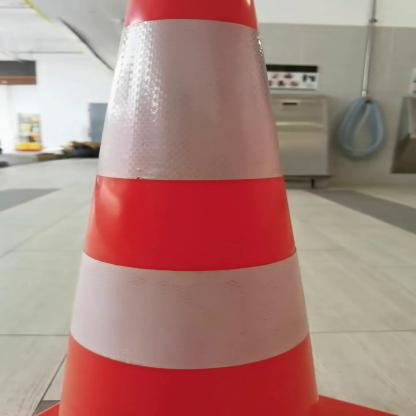cone: (12, 2, 416, 416)
